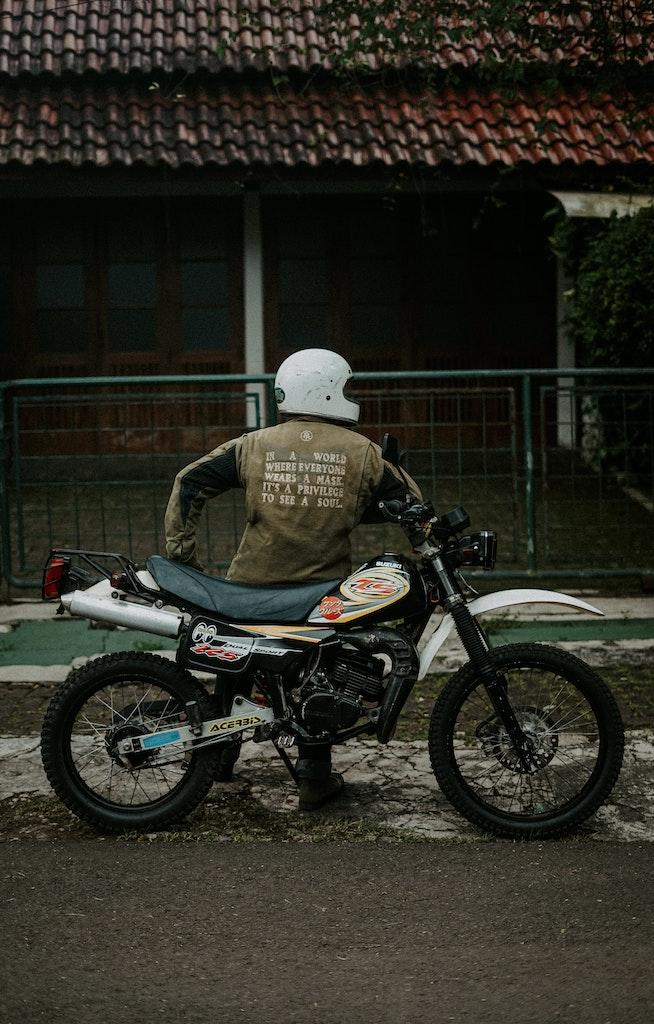helmet: (273, 347, 362, 428)
